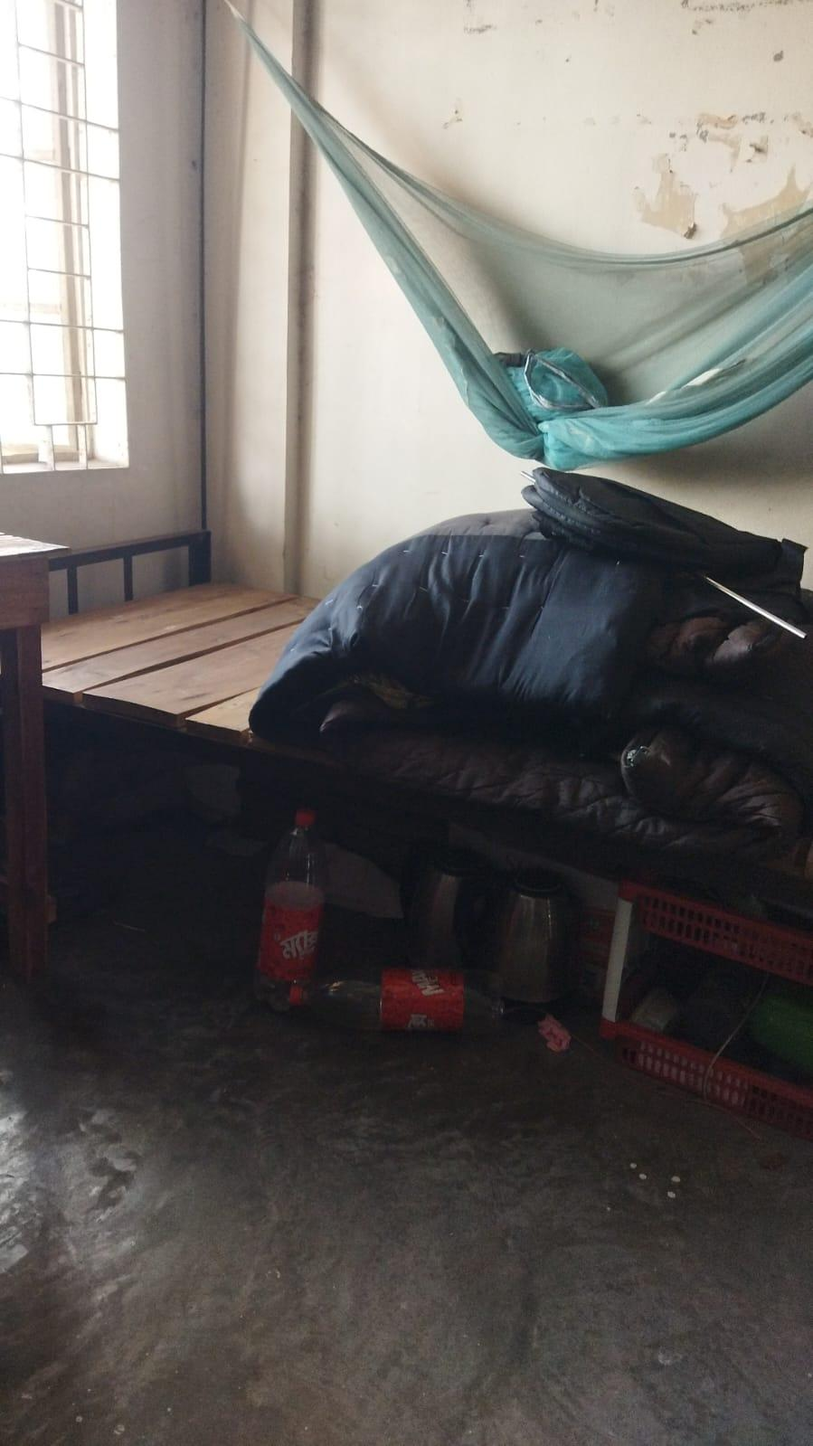Bottle: (287, 955, 489, 1031), (260, 793, 323, 1010)
Rack: (602, 867, 810, 1133)
